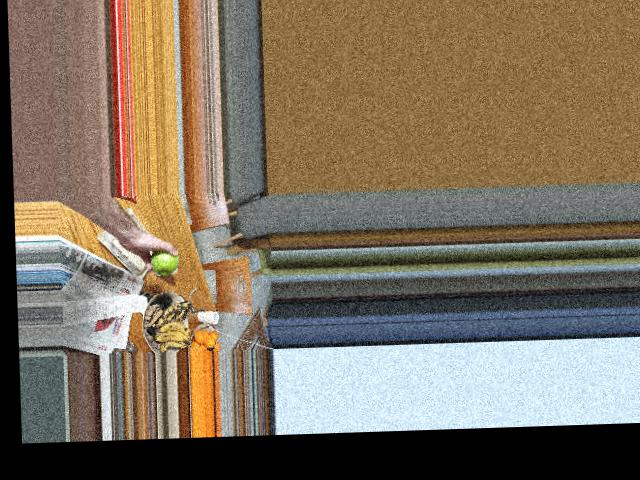apple: (147, 243, 182, 276)
